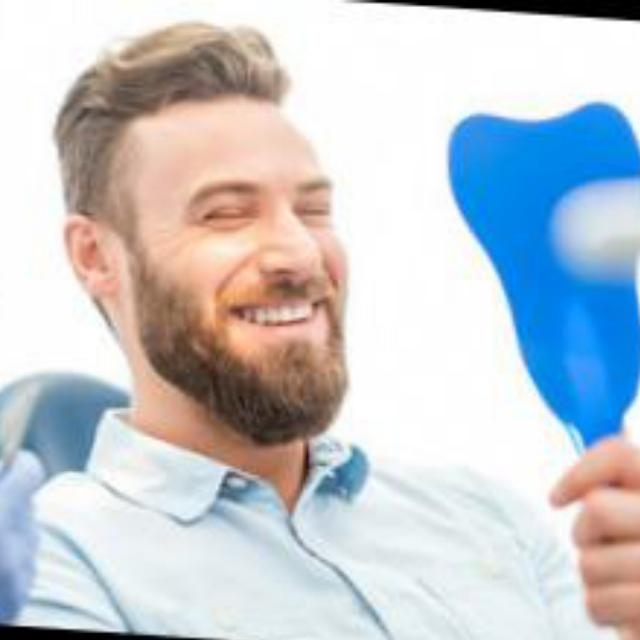Happy: (99, 75, 359, 479)
